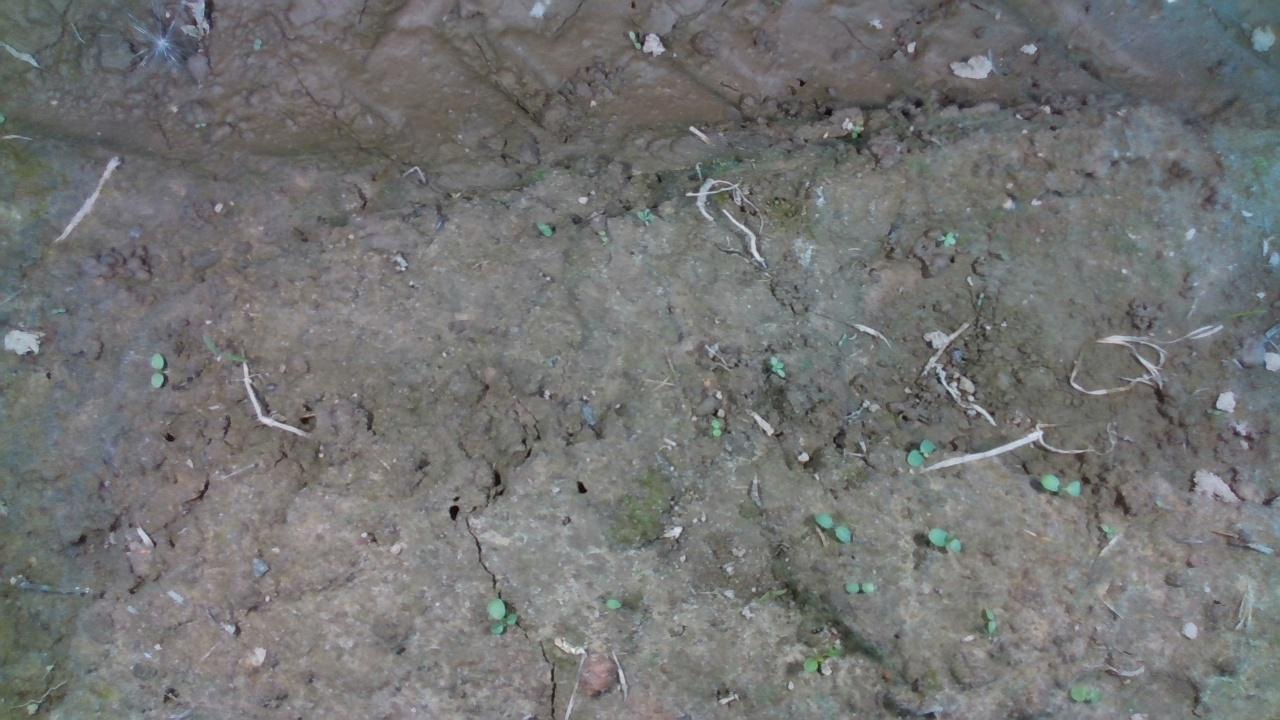weed: (814, 508, 860, 547), (482, 596, 519, 640), (1034, 468, 1082, 496), (923, 523, 967, 549), (145, 346, 172, 387), (977, 602, 1008, 636), (903, 434, 934, 466), (841, 577, 886, 598), (634, 207, 669, 231), (760, 351, 791, 376), (535, 220, 564, 237), (935, 228, 959, 244), (709, 415, 726, 435)
